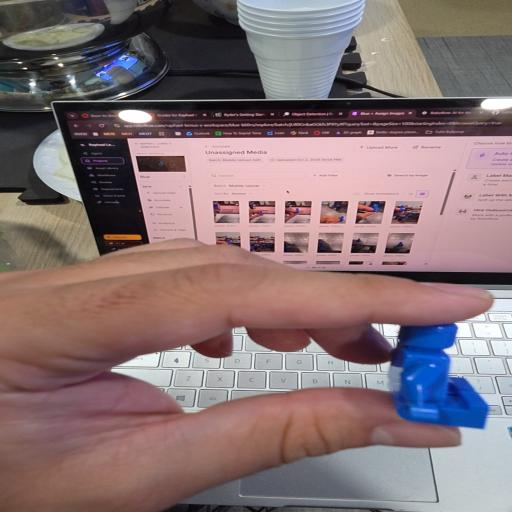Blue: (389, 324, 486, 428)
